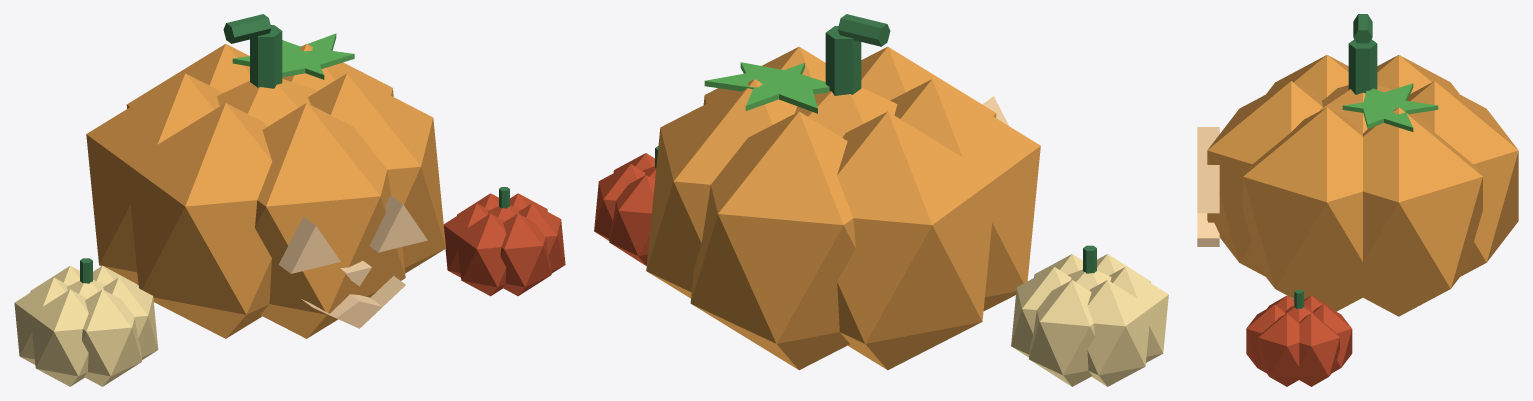
The model's file is CatCafe_Decor_PumpkinLantern.glb.
The picture shows the model from 3 angles, left to right: view 1: azimuth 30°, elevation 25°; view 2: azimuth 150°, elevation 25°; view 3: azimuth 270°, elevation 25°; orthographic projection. The views are drawn at different scales.
Parts seen in each view (by area): view 1: CatCafe_Decor_PumpkinLantern, CatCafe_Decor_PumpkinLantern_Glow; view 2: CatCafe_Decor_PumpkinLantern; view 3: CatCafe_Decor_PumpkinLantern, CatCafe_Decor_PumpkinLantern_Glow.
Part boxes in pixels (box(x1,y1,x2,y2)): CatCafe_Decor_PumpkinLantern: box(14, 14, 565, 386); CatCafe_Decor_PumpkinLantern_Glow: box(278, 195, 427, 328); CatCafe_Decor_PumpkinLantern: box(594, 14, 1168, 386); CatCafe_Decor_PumpkinLantern: box(1207, 14, 1518, 386); CatCafe_Decor_PumpkinLantern_Glow: box(1197, 127, 1219, 246).
Bounding box in the file's own units: 3.3 × 1.8 × 2.02.
1 material, 1 textured.
